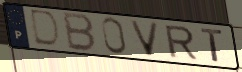0: (100, 15, 129, 56)
B: (62, 11, 98, 54)
D: (30, 8, 63, 50)
R: (162, 24, 199, 61)
T: (199, 27, 226, 64)
V: (127, 18, 162, 58)
